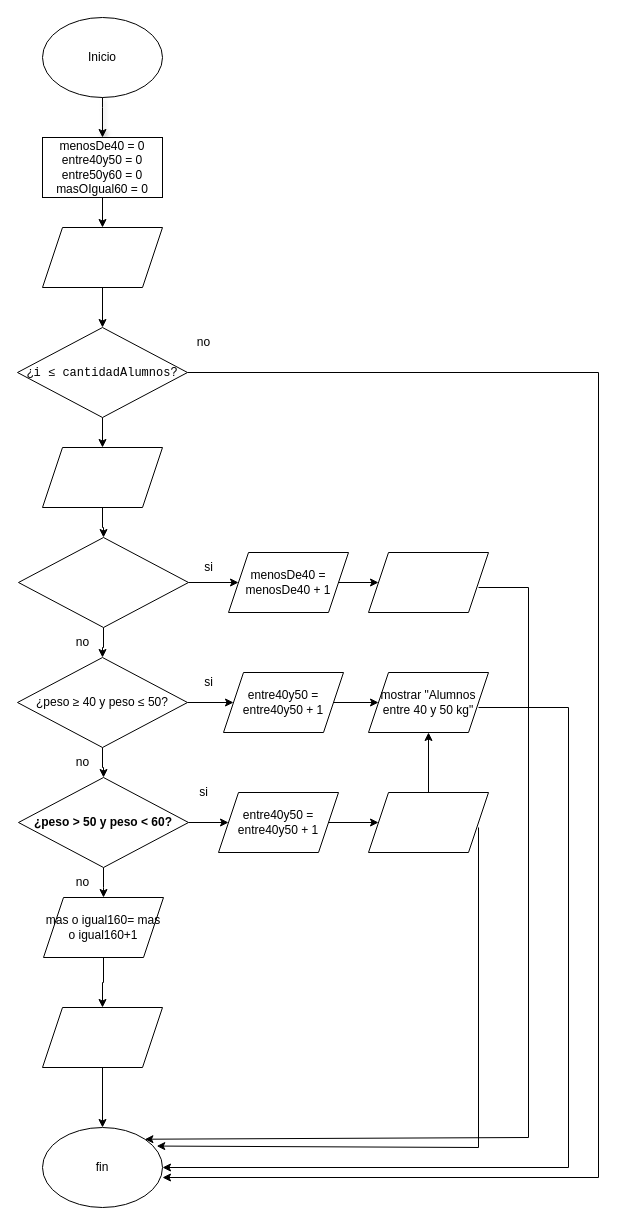
This 624x1225 diagram has some shape labels left out. Each missing label, with the centre of its shape:
Alumnos de más o igual a 60 kg: point (102, 1037)
Leer: cantidadAlumnos: point (102, 257)
Leer: peso: point (102, 477)
mostrar "Alumnos de menos de 40 kg": point (428, 582)
mostrar "alumnos de más de 50 kg y menos de 60 kg": point (428, 822)
¿peso < 40?: point (103, 582)
